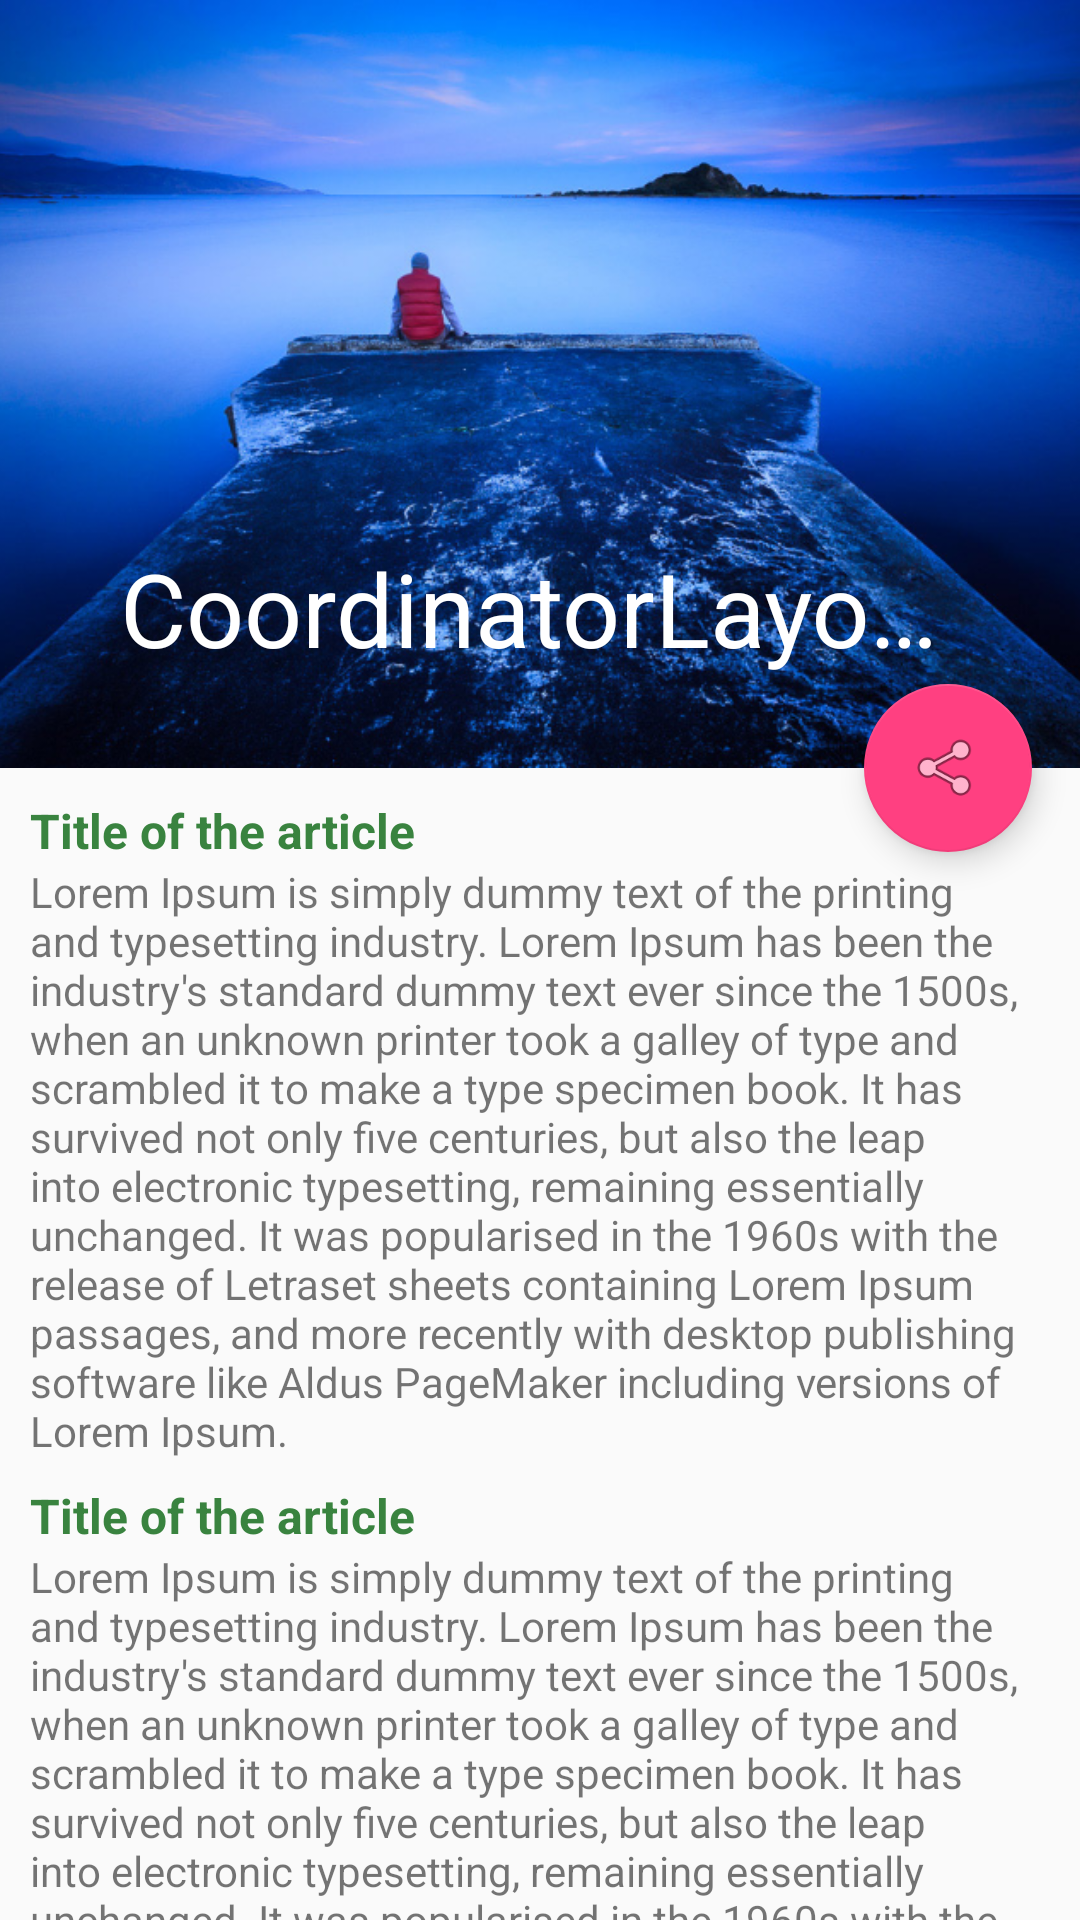

Icons on this 1080 × 1920 Android screen, each with the point to tap as point (x, y):
share: point (948, 768)
